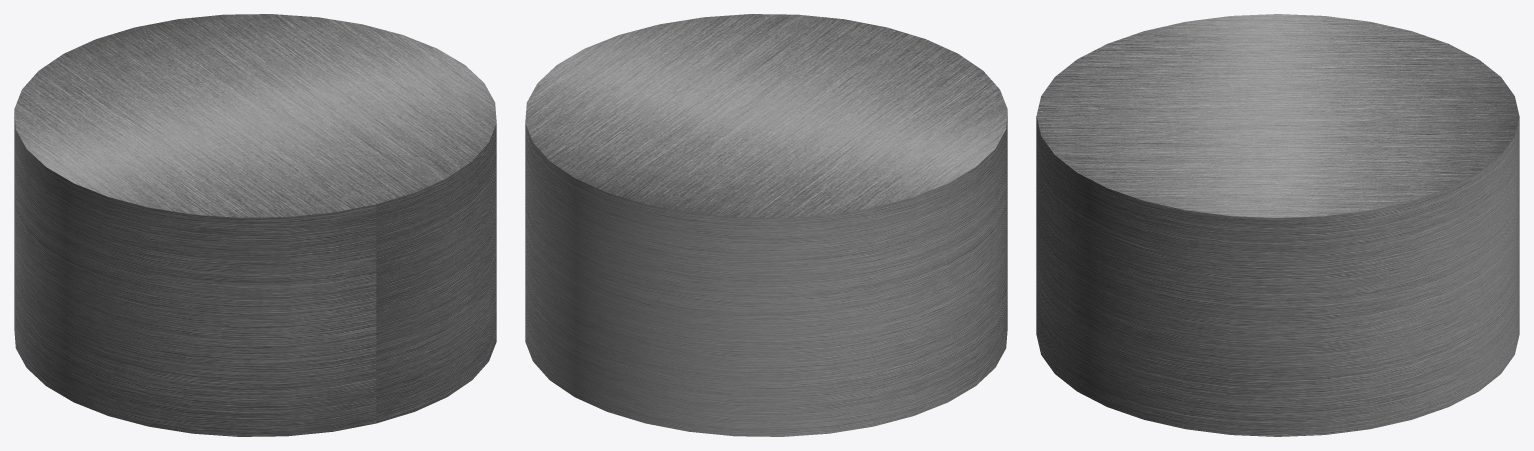
The model's file is coil.glb.
3 renders of one model, left to right at view 1: azimuth 30°, elevation 25°; view 2: azimuth 150°, elevation 25°; view 3: azimuth 270°, elevation 25°, orthographic.
Visible parts, largest first — view 1: Cylinder; view 2: Cylinder; view 3: Cylinder.
Boxes of the visible parts, x1,y1,x2,y2 form: Cylinder: [14, 14, 496, 436]; Cylinder: [525, 14, 1007, 436]; Cylinder: [1036, 14, 1519, 436].
Bounding box in the file's own units: 2 × 1 × 2.
1 material, 1 textured.
